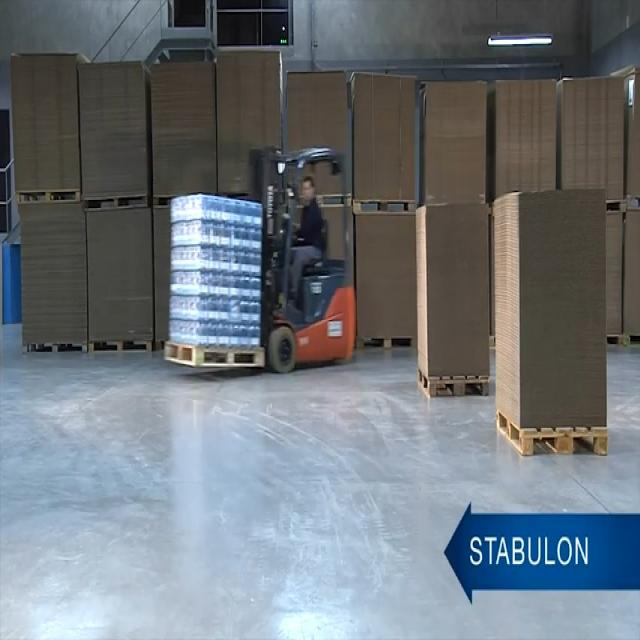Chariot elevateur: (250, 148, 364, 379)
Palette: (158, 330, 269, 386), (494, 411, 608, 464), (413, 372, 491, 415), (87, 330, 157, 374), (15, 180, 84, 211), (83, 190, 151, 218), (21, 334, 88, 362), (353, 194, 418, 218), (358, 335, 414, 357), (148, 191, 178, 216), (317, 192, 352, 213), (605, 193, 640, 214), (602, 330, 640, 349)
